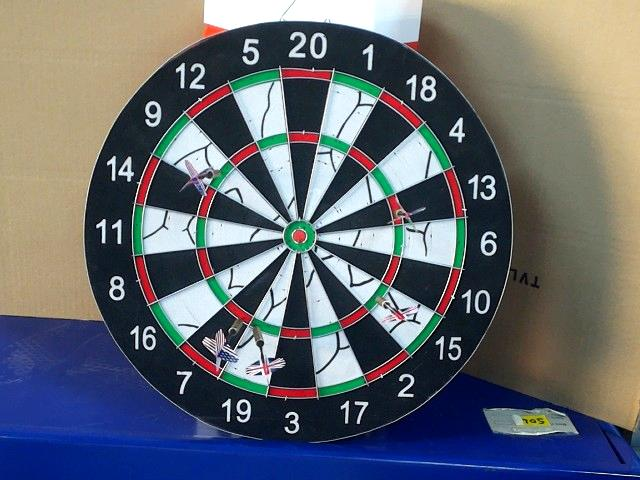triple_13: (393, 196, 413, 224)
triple_15: (365, 283, 388, 312)
triple_19: (252, 321, 282, 337)
triple_7: (226, 303, 252, 322)
triple_9: (214, 164, 234, 185)
